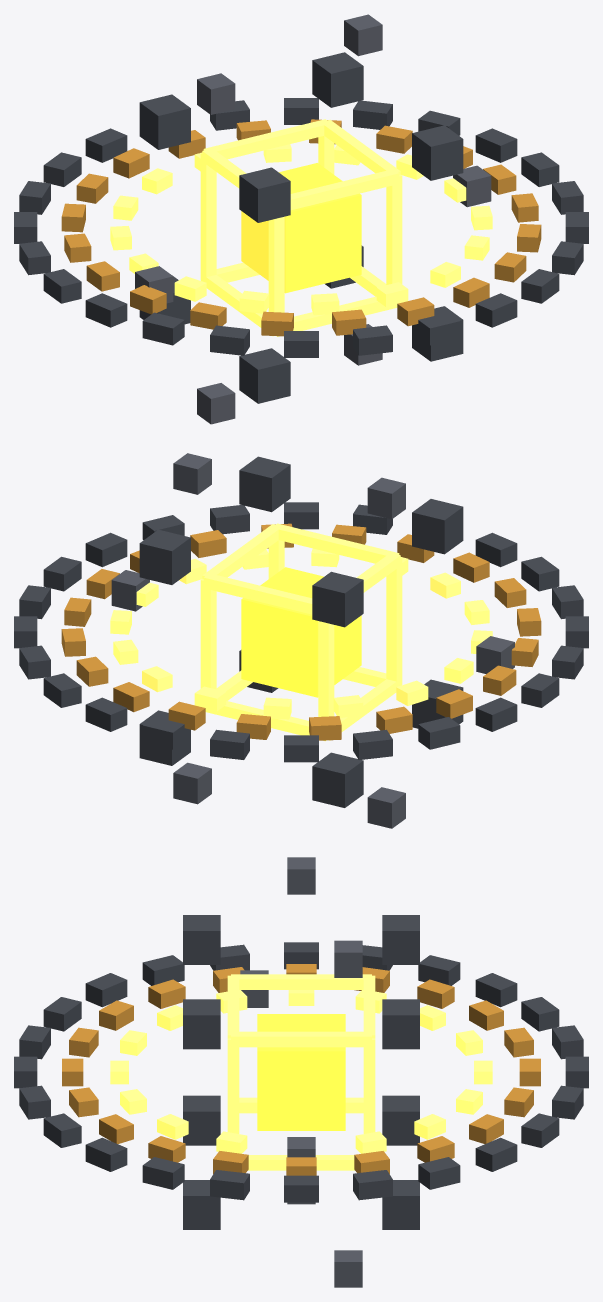
The model's file is tech-core.glb.
3 renders of one model, top to bottom at view 1: azimuth 30°, elevation 25°; view 2: azimuth 150°, elevation 25°; view 3: azimuth 270°, elevation 25°, orthographic.
Visible parts, largest first — view 1: GimbalRingOuter, InnerWireCage, OuterCage, GimbalRingMid, InnerCore, GimbalRingInner, SatelliteEmitter_1, SatelliteEmitter_4, SatelliteEmitter_2, SatelliteEmitter_0, SatelliteEmitter_3, SatelliteEmitter_5; view 2: GimbalRingOuter, OuterCage, InnerWireCage, GimbalRingMid, InnerCore, GimbalRingInner, SatelliteEmitter_1, SatelliteEmitter_2, SatelliteEmitter_4, SatelliteEmitter_5, SatelliteEmitter_3, SatelliteEmitter_0; view 3: GimbalRingOuter, OuterCage, GimbalRingMid, InnerWireCage, InnerCore, GimbalRingInner, SatelliteEmitter_1, SatelliteEmitter_2, SatelliteEmitter_5, SatelliteEmitter_0, SatelliteEmitter_3.
Part boxes in pixels (box(x1,y1,x2,y2)): GimbalRingOuter: box(14, 98, 588, 357); InnerWireCage: box(200, 119, 402, 336); OuterCage: box(139, 52, 463, 403); GimbalRingMid: box(61, 119, 541, 336); InnerCore: box(241, 163, 361, 293); GimbalRingInner: box(110, 144, 492, 315); SatelliteEmitter_1: box(344, 14, 382, 56); SatelliteEmitter_4: box(197, 383, 235, 424); SatelliteEmitter_2: box(197, 73, 235, 114); SatelliteEmitter_0: box(453, 165, 491, 207); SatelliteEmitter_3: box(135, 266, 173, 303); SatelliteEmitter_5: box(344, 324, 382, 365); GimbalRingOuter: box(14, 502, 588, 762); OuterCage: box(139, 456, 463, 807); InnerWireCage: box(200, 523, 402, 741); GimbalRingMid: box(61, 523, 541, 740); InnerCore: box(241, 567, 361, 697); GimbalRingInner: box(110, 548, 492, 719); SatelliteEmitter_1: box(173, 453, 211, 494); SatelliteEmitter_2: box(367, 477, 405, 519); SatelliteEmitter_4: box(367, 787, 405, 828); SatelliteEmitter_5: box(173, 762, 211, 804); SatelliteEmitter_3: box(476, 636, 514, 673); SatelliteEmitter_0: box(111, 570, 149, 611); GimbalRingOuter: box(14, 942, 588, 1202); OuterCage: box(183, 915, 419, 1229); GimbalRingMid: box(62, 964, 540, 1175); InnerWireCage: box(227, 974, 375, 1170); InnerCore: box(257, 1014, 345, 1130); GimbalRingInner: box(110, 990, 492, 1153); SatelliteEmitter_1: box(334, 940, 362, 977); SatelliteEmitter_2: box(287, 857, 315, 894); SatelliteEmitter_5: box(334, 1250, 362, 1287); SatelliteEmitter_0: box(287, 1137, 315, 1157); SatelliteEmitter_3: box(240, 970, 268, 1007).
Bounding box in the file's own units: 4.9 × 3.15 × 4.9.
